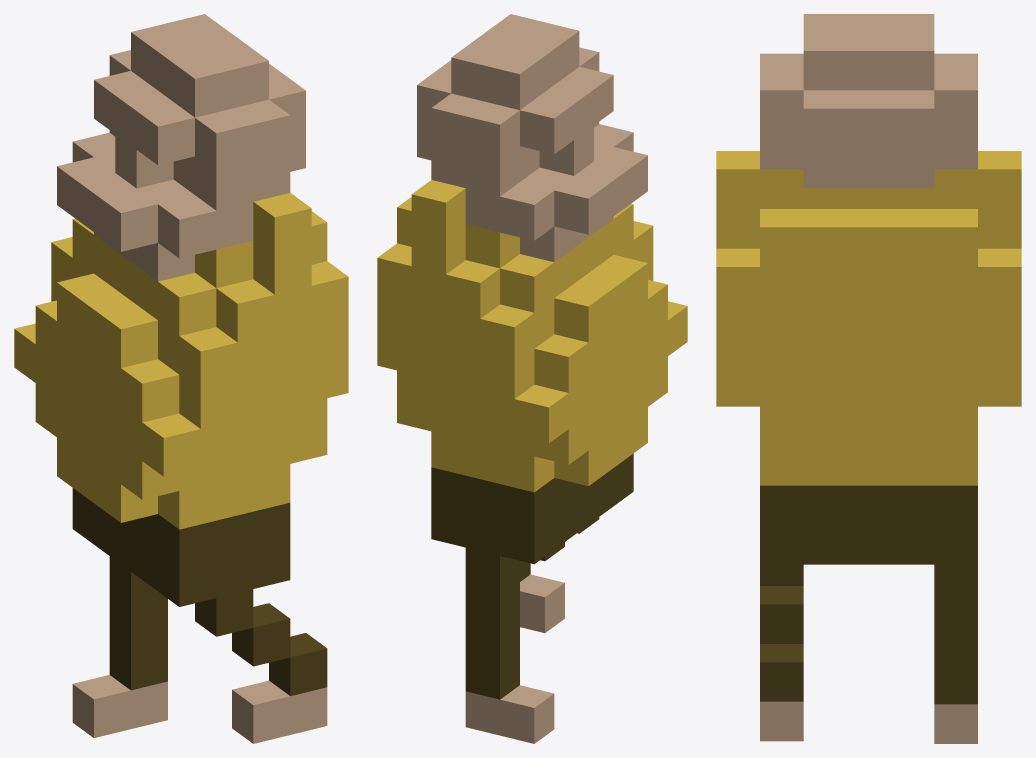
File: orc-5-torso_walk.obj
3 renders of one model, left to right at view 1: azimuth 30°, elevation 25°; view 2: azimuth 150°, elevation 25°; view 3: azimuth 270°, elevation 25°, orthographic. The views are drawn at different scales.
Visible parts, largest first — view 1: torso_walk; view 2: torso_walk; view 3: torso_walk.
Boxes of the visible parts, left/top/right/bottom form: torso_walk: left=14, top=14, right=348, bottom=743; torso_walk: left=377, top=14, right=687, bottom=743; torso_walk: left=716, top=14, right=1021, bottom=743.
Size of the model in its own units: 0.5 by 1.8 by 0.7.
1 material, 1 textured.
